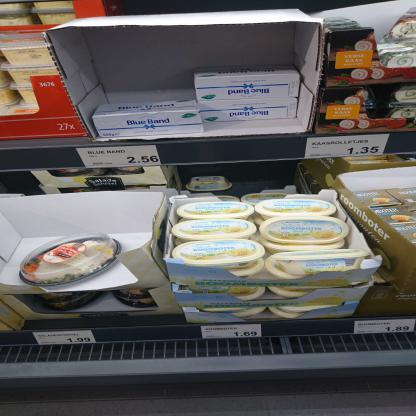prtg: (306, 135, 390, 159), (77, 146, 162, 169), (355, 320, 415, 335), (33, 332, 97, 346), (202, 325, 262, 339)
